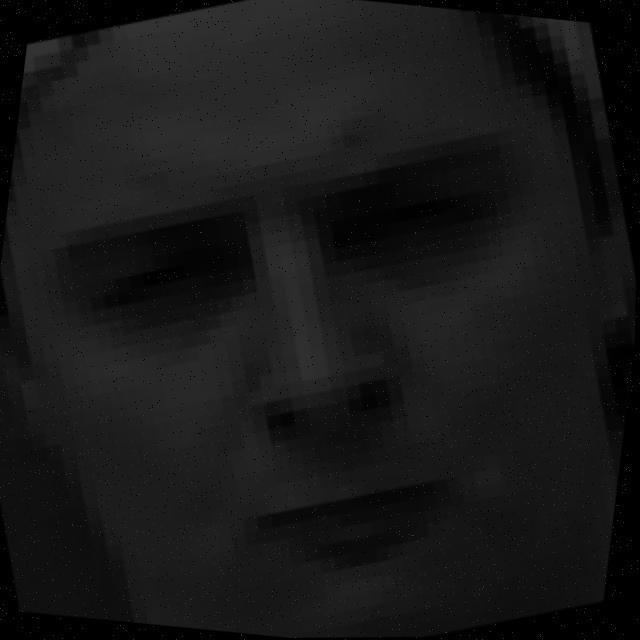Disgust: (23, 45, 579, 602)
